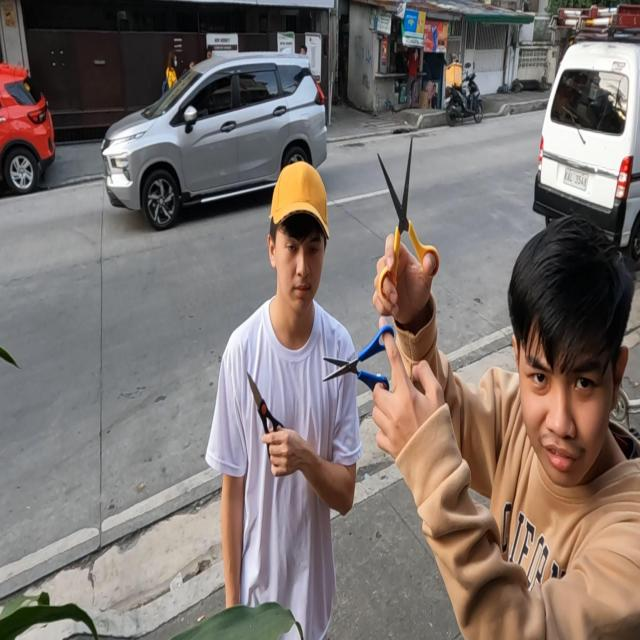scissor: (376, 133, 441, 301), (323, 323, 396, 398), (247, 370, 290, 468)
